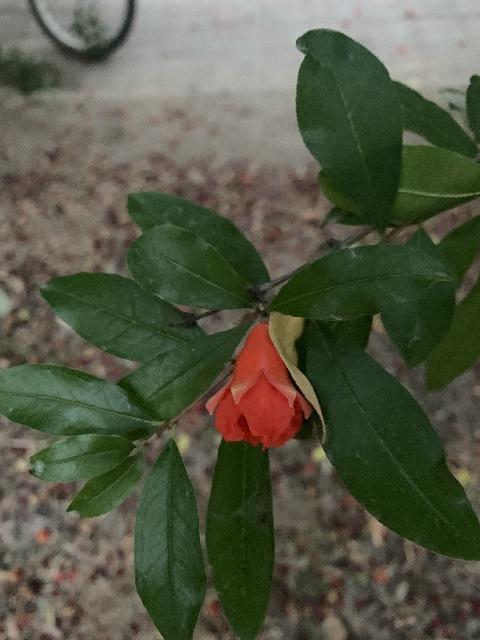flower: (206, 321, 313, 451)
